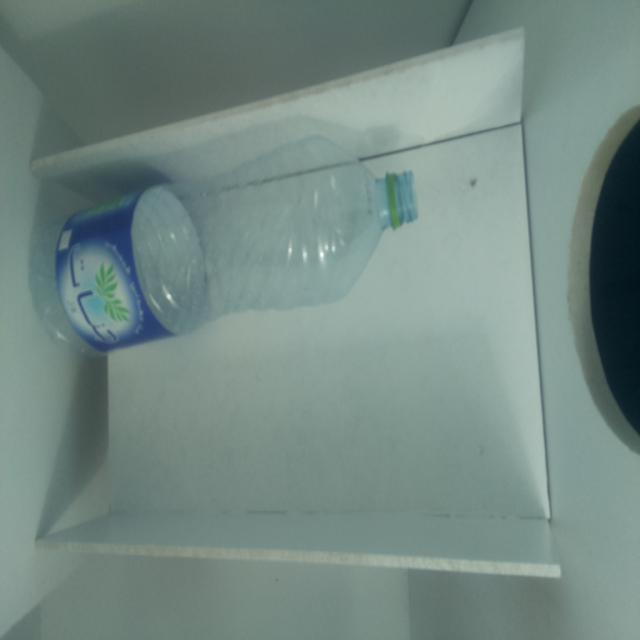plasticbottle: (18, 141, 450, 346)
